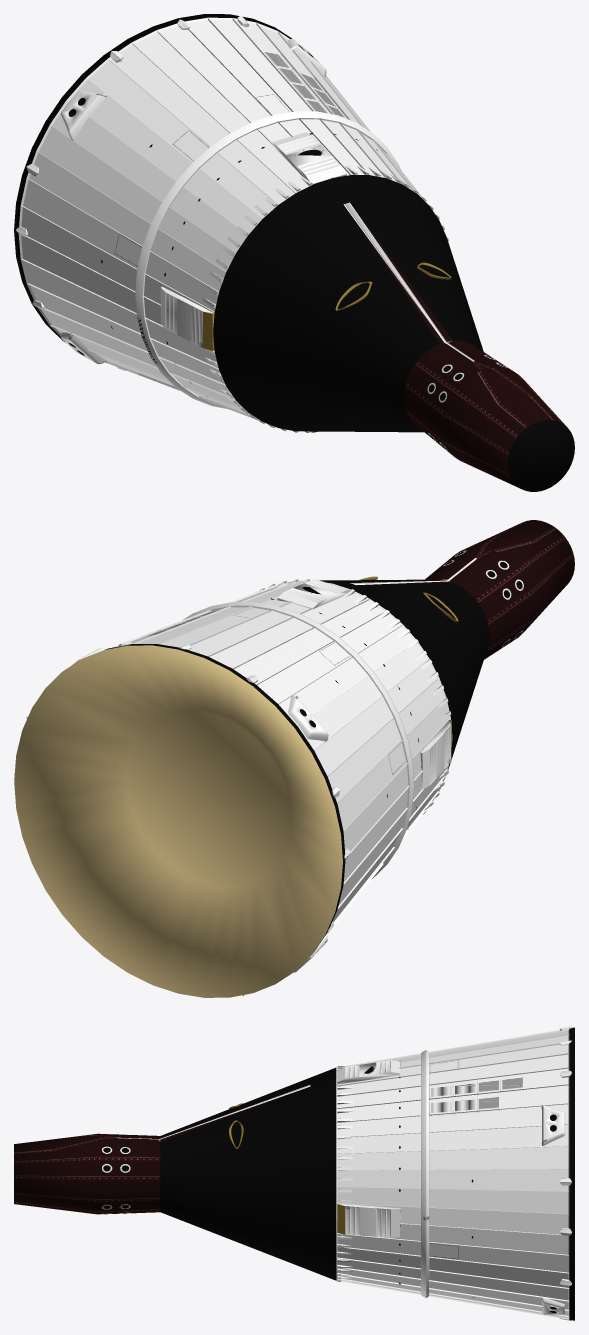
File: gemini_lod1.glb
The picture shows the model from 3 angles, top to bottom: view 1: azimuth 30°, elevation 25°; view 2: azimuth 150°, elevation 25°; view 3: azimuth 270°, elevation 25°; orthographic projection. The views are drawn at different scales.
Visible parts, largest first — view 1: gemini_lod1; view 2: gemini_lod1; view 3: gemini_lod1.
Part boxes in pixels (x1,y1,x2,y2): gemini_lod1: [14, 14, 574, 491]; gemini_lod1: [14, 520, 574, 997]; gemini_lod1: [14, 1026, 574, 1320].
Size of the model in its own units: 3.05 by 3.04 by 5.78.
10 materials, 5 textured.
